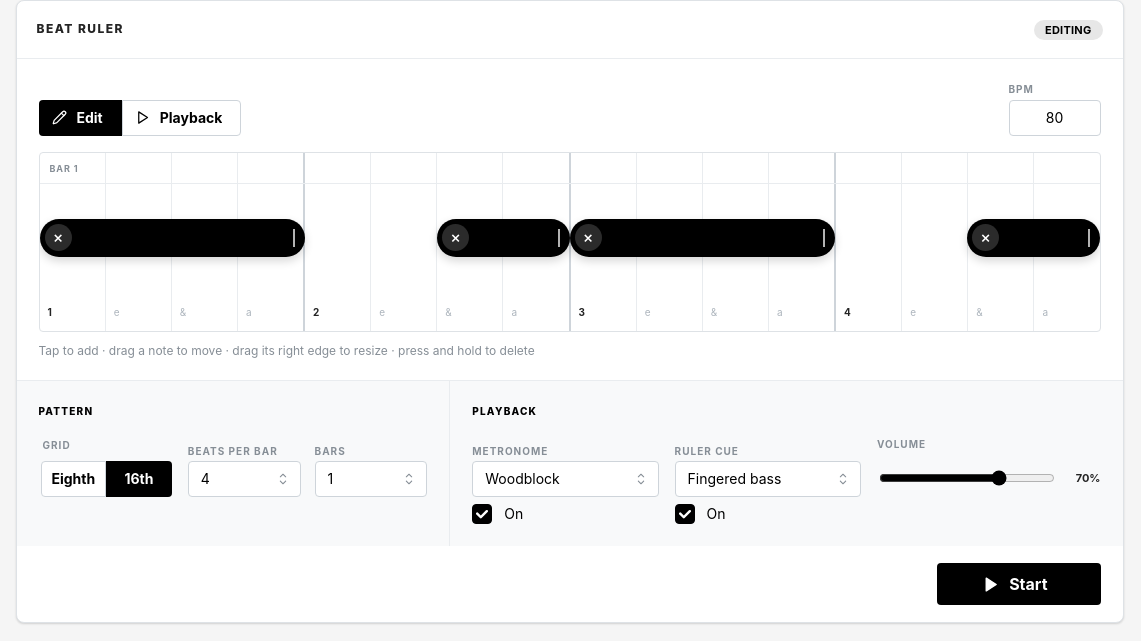
Test: Beat Ruler UI › independently disables the metronome and keeps ruler cues configured
Click the checkbox named "Sound metronome" at [482, 514], box [472,504,492,524]
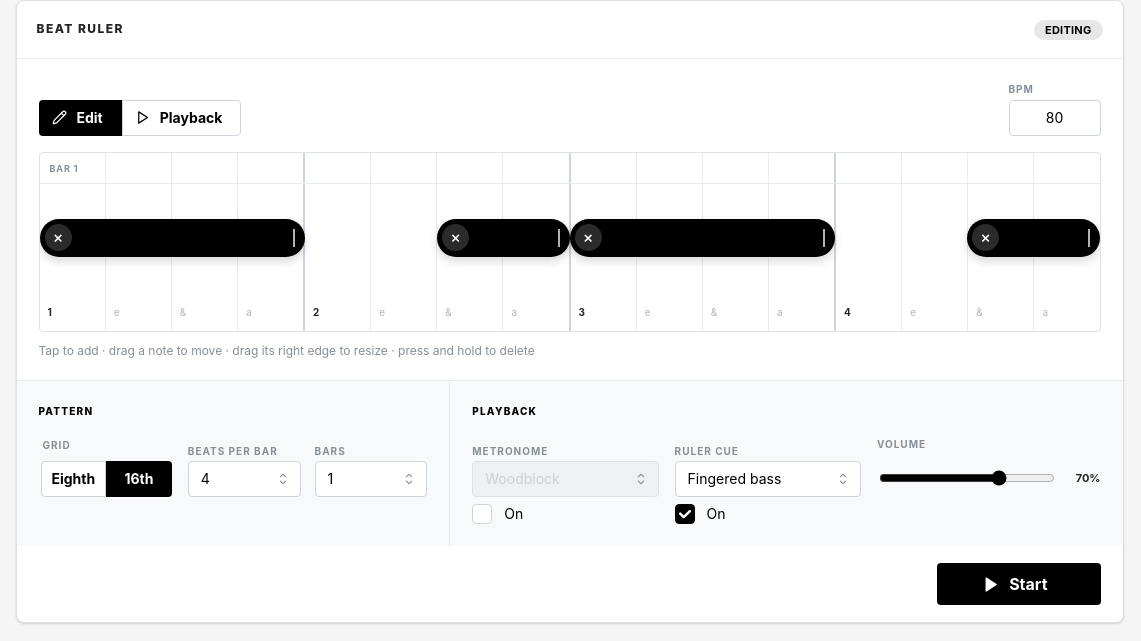
Expected: the dropdown labelled "RULER CUE" is enabled, [675,461,861,497]
Result: the checkbox named "Sound metronome" is not checked at [472,504,492,524]
Result: the dropdown labelled "METRONOME" is disabled at [472,461,659,497]
